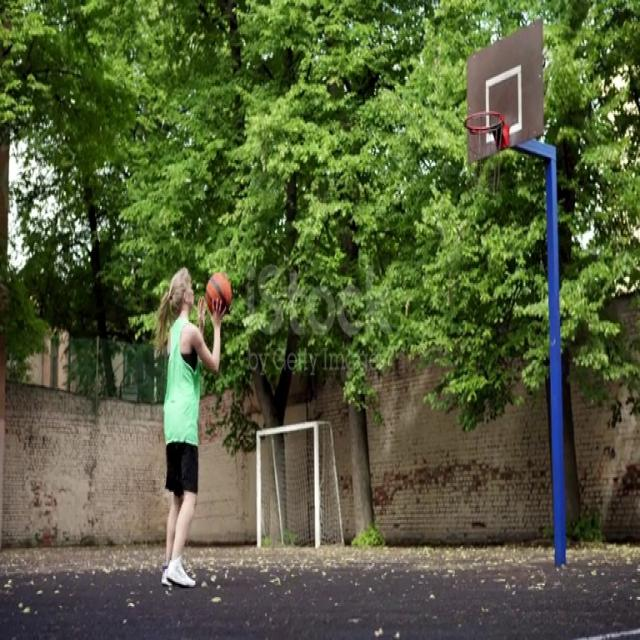ball: (205, 271, 233, 316)
